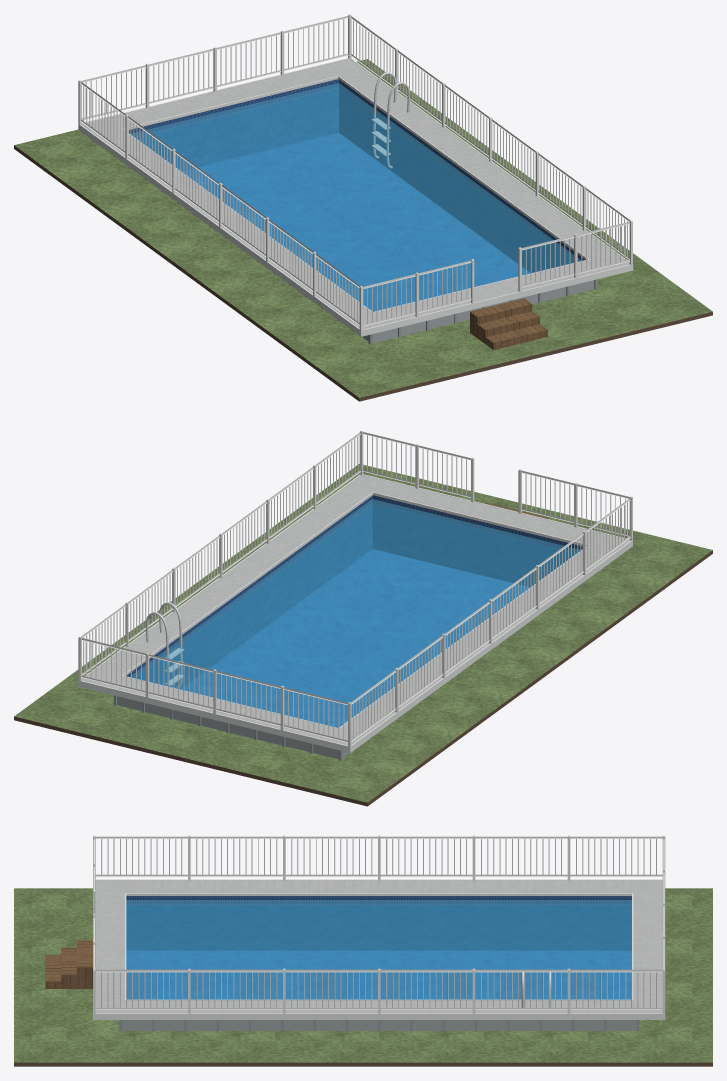
The model's file is kayak-pool-16x32-gray-walk-rec-fence.d7c0322c38.glb.
3 renders of one model, top to bottom at view 1: azimuth 30°, elevation 25°; view 2: azimuth 150°, elevation 25°; view 3: azimuth 270°, elevation 25°, orthographic.
Parts seen in each view (by area): view 1: water, ground, liner_floor, fence, liner_wall, deck, fascia, soil, steps, wall, steel; view 2: water, ground, liner_floor, fence, liner_wall, deck, fascia, soil, wall, steel; view 3: water, ground, liner_wall, liner_floor, deck, fence, fascia, wall, soil, steps, upright.
Part boxes in pixels (bbox=[...]): water: bbox=[131, 83, 580, 311]; ground: bbox=[14, 59, 712, 397]; liner_floor: bbox=[181, 133, 530, 311]; fence: bbox=[78, 14, 632, 330]; liner_wall: bbox=[129, 79, 584, 272]; deck: bbox=[81, 58, 629, 329]; fascia: bbox=[78, 58, 633, 336]; soil: bbox=[14, 145, 712, 401]; steps: bbox=[470, 298, 547, 349]; wall: bbox=[362, 280, 594, 342]; steel: bbox=[371, 72, 410, 168]; water: bbox=[130, 499, 579, 727]; ground: bbox=[14, 464, 712, 802]; liner_floor: bbox=[181, 549, 529, 727]; fence: bbox=[78, 430, 632, 746]; liner_wall: bbox=[127, 495, 582, 689]; deck: bbox=[82, 475, 629, 745]; fascia: bbox=[78, 474, 632, 752]; soil: bbox=[14, 550, 712, 806]; wall: bbox=[117, 696, 348, 758]; steel: bbox=[146, 602, 184, 688]; water: bbox=[126, 900, 631, 999]; ground: bbox=[14, 888, 712, 1062]; liner_wall: bbox=[126, 896, 631, 950]; liner_floor: bbox=[126, 950, 631, 999]; deck: bbox=[95, 880, 662, 1012]; fence: bbox=[93, 835, 665, 1013]; fascia: bbox=[93, 879, 665, 1019]; wall: bbox=[122, 1020, 636, 1030]; soil: bbox=[14, 1062, 712, 1066]; steps: bbox=[45, 940, 92, 988]; upright: bbox=[119, 1020, 639, 1031].
Size of the model in its own units: 7.92 by 2.15 by 13.4.
Materials: 13 (5 with a texture image).
